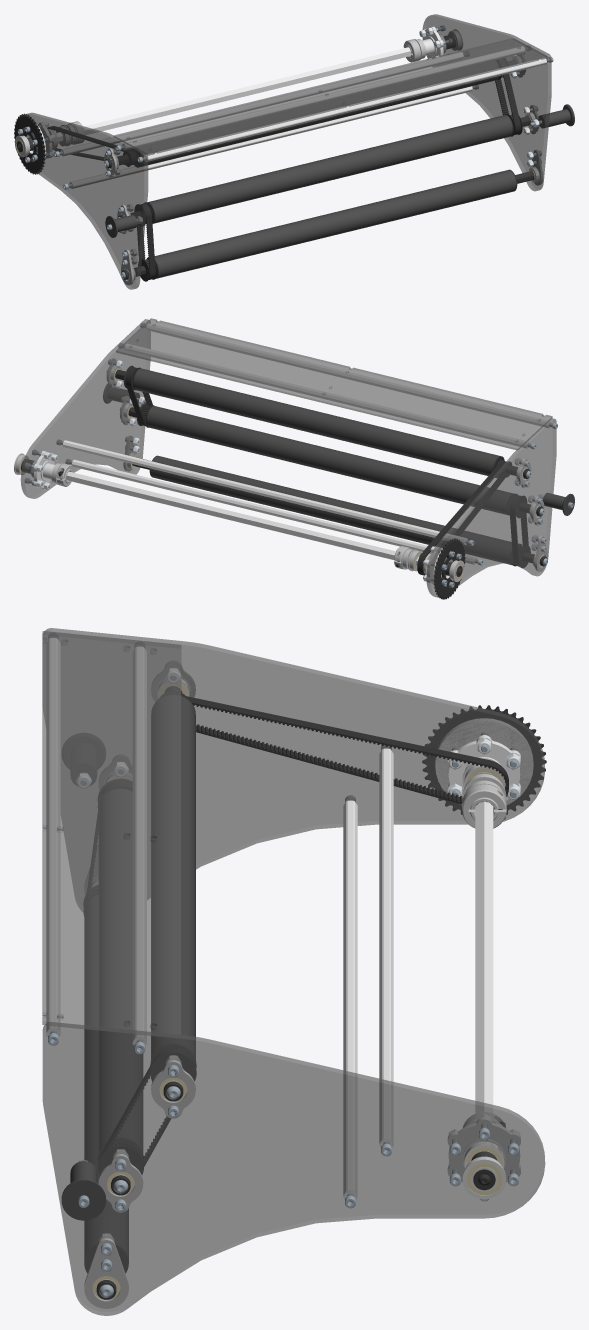
3 renders of one model, top to bottom at view 1: azimuth 30°, elevation 25°; view 2: azimuth 150°, elevation 25°; view 3: azimuth 270°, elevation 25°, orthographic. The views are drawn at different scales.
Parts seen in each view (by area): view 1: Carbon Fiber Tube (×3), Intake Side Plate (×2), Top Ramp Plate, 3/8" ThunderHex (25.812 in) (×4), 1/2" Hex (28.25 in), 85T 3M 9mm Wide Belt (×2), 42t Aluminum Plate Sprocket (#25, 1.125" Round Bore), Hopper Extension Stub 2, 180T 3M 9mm Wide Belt, Hopper Extension Stub 1, 1/2" Hex Hub (0.875" OD, 1.875" Bolt Circle); view 2: Carbon Fiber Tube (×3), Intake Side Plate (×2), Top Ramp Plate, 3/8" ThunderHex (25.812 in) (×4), 1/2" Hex (28.25 in), 180T 3M 9mm Wide Belt, 85T 3M 9mm Wide Belt (×2), 42t Aluminum Plate Sprocket (#25, 1.125" Round Bore), 1/2" Hex Hub (0.875" OD, 1.875" Bolt Circle), Hopper Extension Stub 1; view 3: Intake Side Plate (×2), Top Ramp Plate, Carbon Fiber Tube (×3), 3/8" ThunderHex (25.812 in) (×4), 1/2" Hex (28.25 in), 180T 3M 9mm Wide Belt, 1/2" Hex Hub (0.875" OD, 1.875" Bolt Circle) (×2), 42t Aluminum Plate Sprocket (#25, 1.125" Round Bore), Sprocket Spacer, 0.875 Center Bearing Retention Plate (×2), Hopper Extension Stub 2, 0.875 Edge Bearing Retention Plate (+3 smaller).
Part boxes in pixels (bbox=[...]): Carbon Fiber Tube (×3): bbox=[138, 60, 516, 278]; Intake Side Plate (×2): bbox=[27, 14, 551, 289]; Top Ramp Plate: bbox=[114, 38, 547, 155]; 3/8" ThunderHex (25.812 in) (×4): bbox=[60, 46, 546, 188]; 1/2" Hex (28.25 in): bbox=[56, 47, 412, 141]; 85T 3M 9mm Wide Belt (×2): bbox=[137, 58, 520, 279]; 42t Aluminum Plate Sprocket (#25, 1.125" Round Bore): bbox=[14, 113, 45, 174]; Hopper Extension Stub 2: bbox=[538, 104, 574, 128]; 180T 3M 9mm Wide Belt: bbox=[47, 126, 136, 164]; Hopper Extension Stub 1: bbox=[105, 215, 137, 237]; 1/2" Hex Hub (0.875" OD, 1.875" Bolt Circle): bbox=[422, 26, 443, 58]; Carbon Fiber Tube (×3): bbox=[133, 368, 512, 564]; Intake Side Plate (×2): bbox=[20, 319, 556, 597]; Top Ramp Plate: bbox=[116, 318, 552, 449]; 3/8" ThunderHex (25.812 in) (×4): bbox=[62, 323, 551, 564]; 1/2" Hex (28.25 in): bbox=[65, 471, 419, 565]; 180T 3M 9mm Wide Belt: bbox=[417, 460, 506, 575]; 85T 3M 9mm Wide Belt (×2): bbox=[125, 367, 528, 566]; 42t Aluminum Plate Sprocket (#25, 1.125" Round Bore): bbox=[433, 538, 465, 599]; 1/2" Hex Hub (0.875" OD, 1.875" Bolt Circle): bbox=[33, 451, 54, 489]; Hopper Extension Stub 1: bbox=[543, 492, 574, 515]; Intake Side Plate (×2): bbox=[42, 628, 545, 1315]; Top Ramp Plate: bbox=[42, 631, 181, 1038]; Carbon Fiber Tube (×3): bbox=[84, 695, 195, 1258]; 3/8" ThunderHex (25.812 in) (×4): bbox=[46, 638, 393, 1199]; 1/2" Hex (28.25 in): bbox=[475, 801, 493, 1113]; 180T 3M 9mm Wide Belt: bbox=[181, 695, 508, 804]; 1/2" Hex Hub (0.875" OD, 1.875" Bolt Circle) (×2): bbox=[447, 735, 520, 1181]; 42t Aluminum Plate Sprocket (#25, 1.125" Round Bore): bbox=[422, 705, 546, 814]; Sprocket Spacer: bbox=[435, 718, 533, 804]; 0.875 Center Bearing Retention Plate (×2): bbox=[98, 1060, 195, 1212]; Hopper Extension Stub 2: bbox=[61, 1161, 106, 1220]; 0.875 Edge Bearing Retention Plate: bbox=[84, 1238, 128, 1308].
Size of the model in its own units: 0.7615 by 0.2282 by 0.3583.
